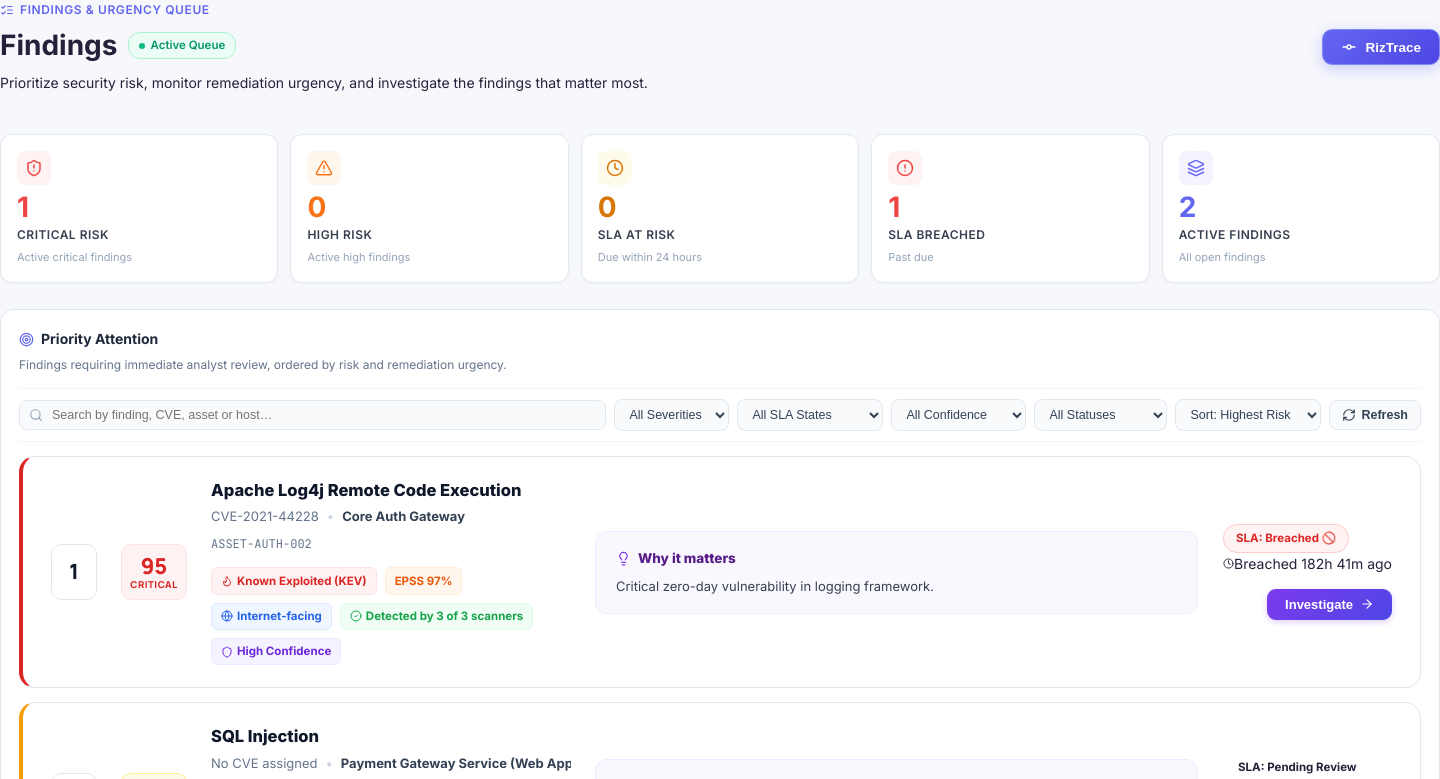
Findings SOC Queue Component & Utilities › FindingsQueue Page Integration › 8. filters findings by risk level
Expected: the heading "SQL Injection" is shown, [211,725,319,748]
Select "Critical" in the dropdown named "Filter by severity" at (672, 415), box [614,399,730,431]
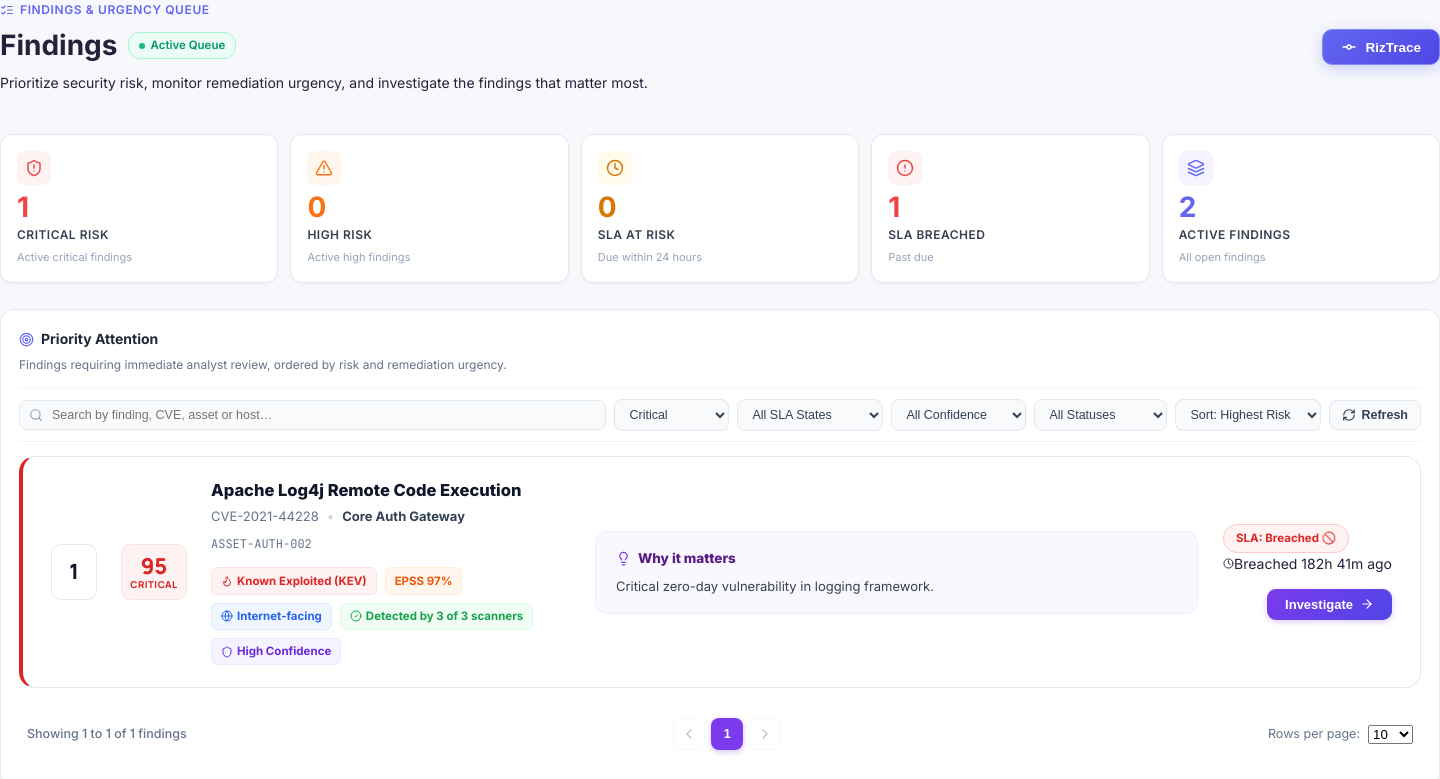
Expected: the heading "Apache Log4j Remote Code Execution" is shown, [211,479,521,501]
Expected: the heading "SQL Injection" is gone
